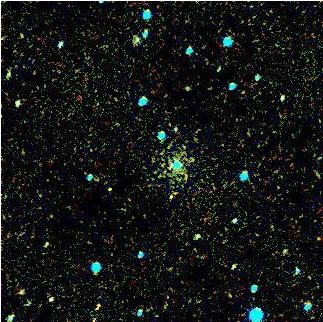star: (82, 161, 112, 191)
